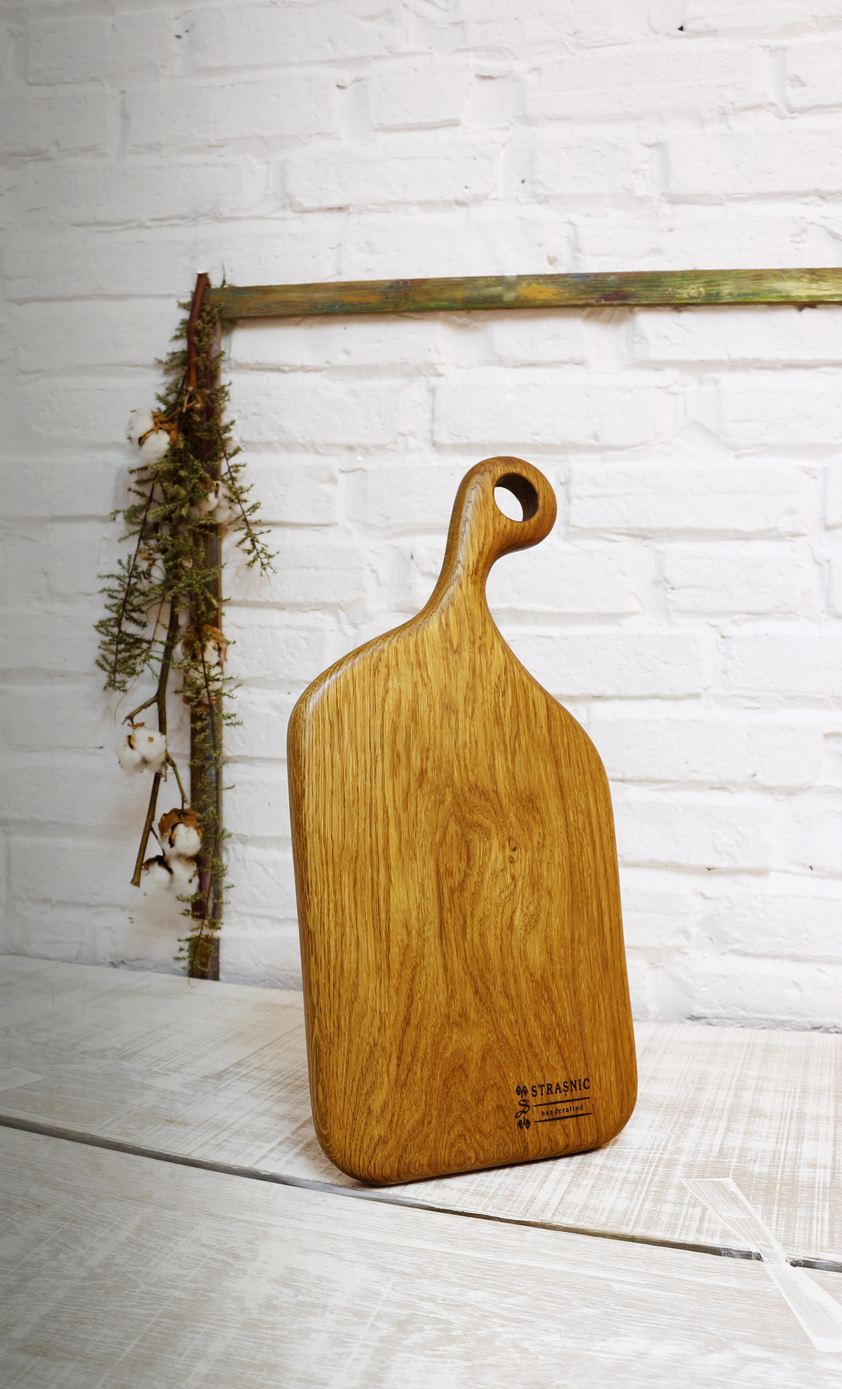gloved_hand: (279, 444, 652, 1197)
